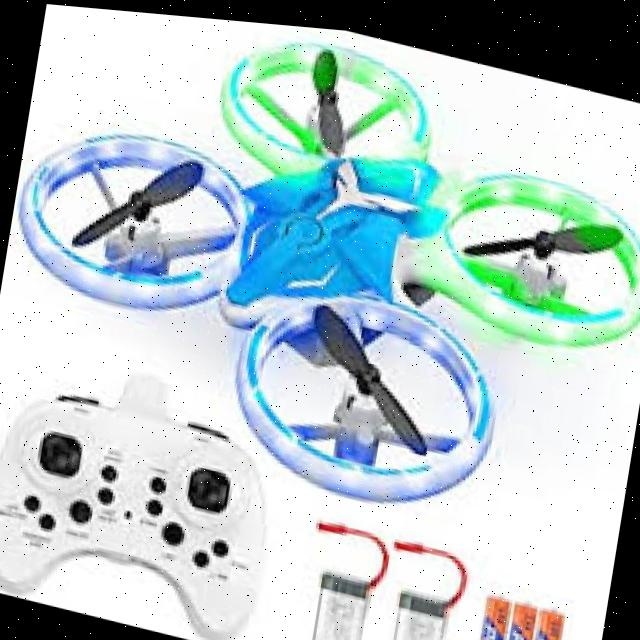drone: (0, 0, 640, 562)
